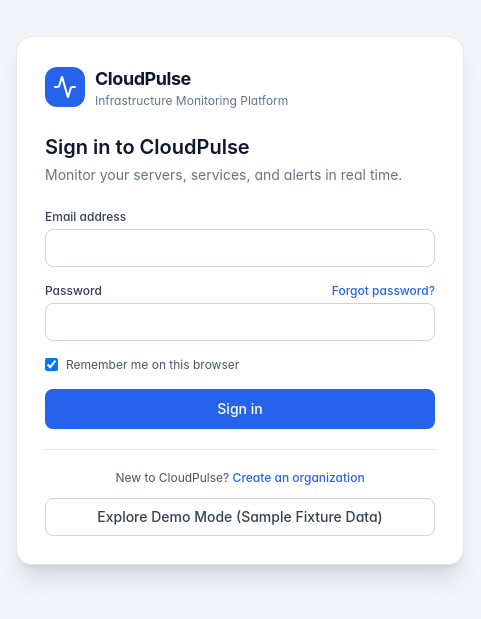
Test: CloudPulse Frontend Suite (PRD Section 32.3) › renders Login form and validates empty submission
Expected: the heading "Sign in to CloudPulse" is shown, [45, 134, 250, 158]
Click the button "Sign in" at (240, 408), box [45, 388, 435, 428]
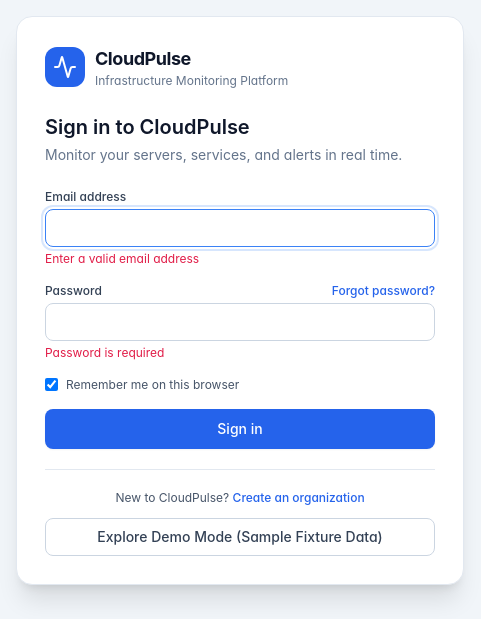
Now the text "Enter a valid email address" is shown, box [45, 250, 199, 266]
